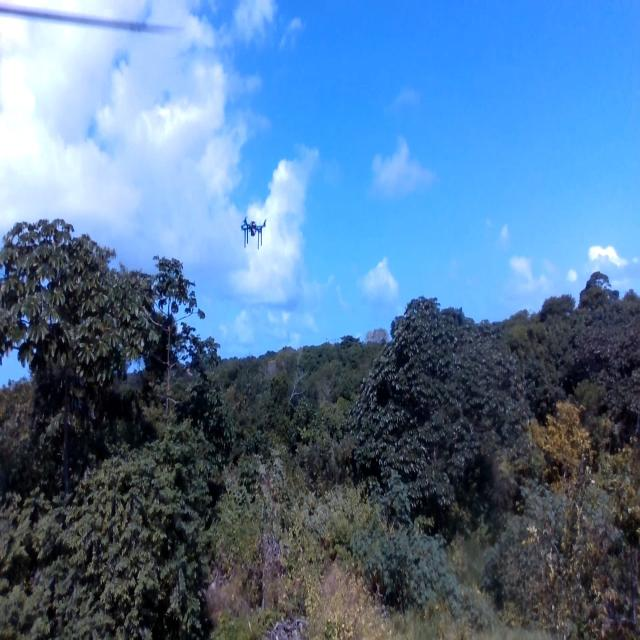-uav-: (234, 206, 274, 258)
